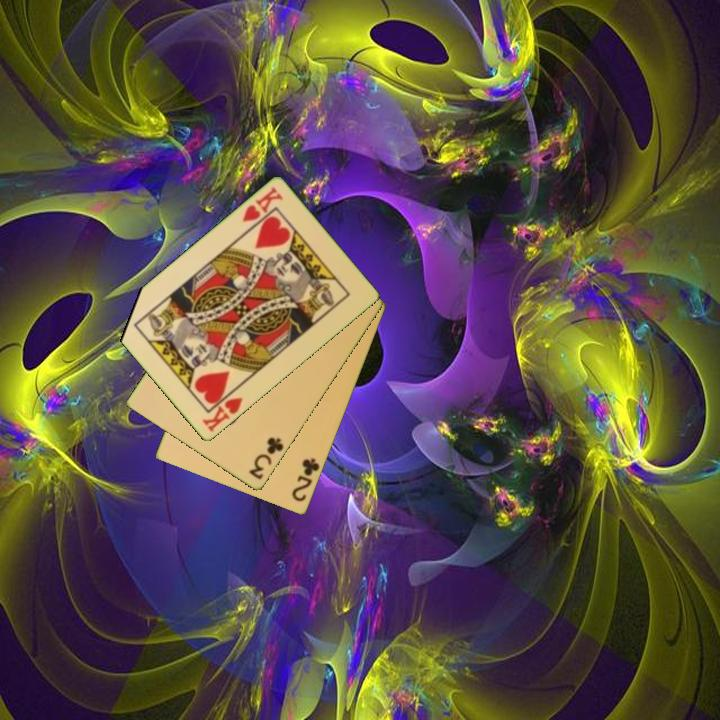2c: (288, 454, 323, 505)
3c: (245, 434, 287, 483)
Kh: (198, 385, 245, 435), (238, 183, 286, 225)
